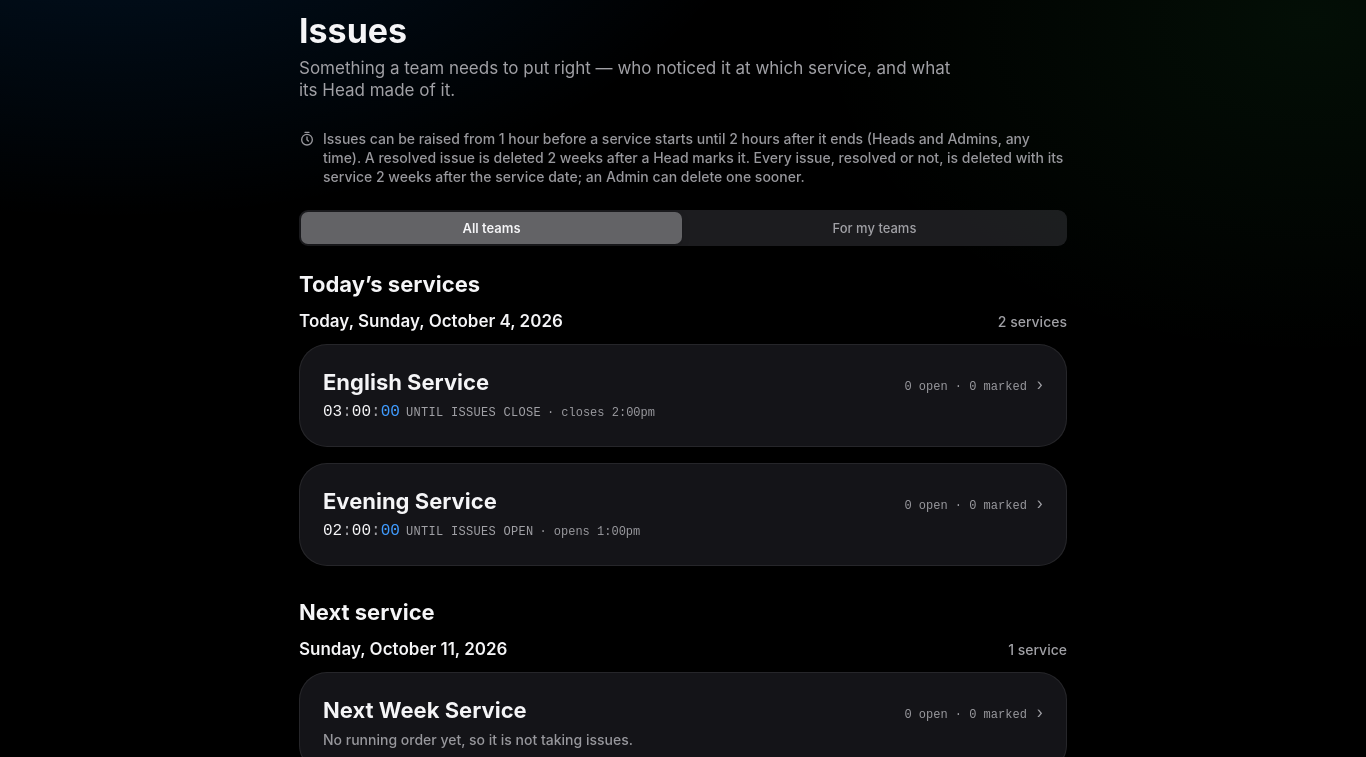
Scenario: the Issues page › lets a Head raise one before the window opens
Click the button "Evening Service 0 open · 0 marked ›" at {"x": 410, "y": 501}, box x1=323 y1=487 x2=1043 y2=515
(page scrolled)
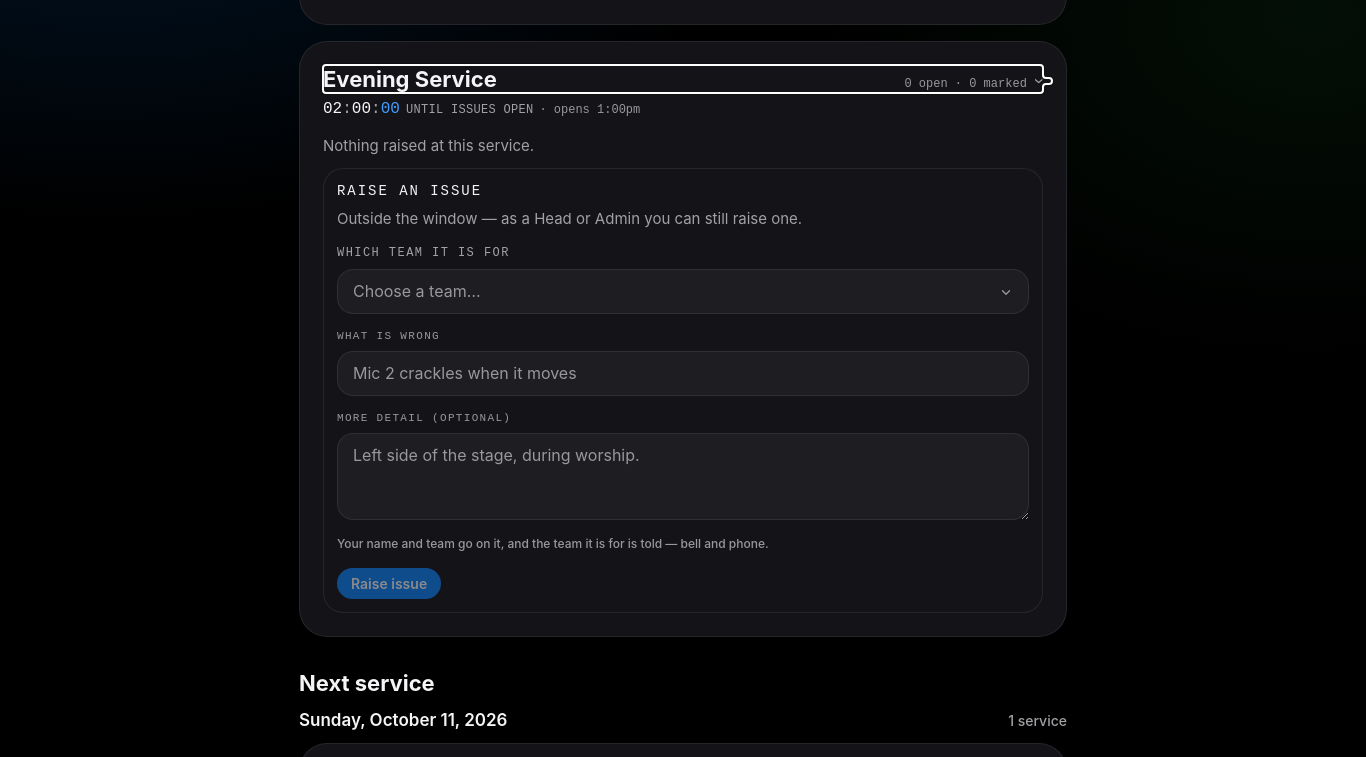
Expected: the text "as a Head or Admin you can still raise one" is shown, x1=337 y1=209 x2=802 y2=228
Expected: the field with placeholder "Mic 2 crackles when it moves" is enabled, x1=337 y1=351 x2=1029 y2=396
